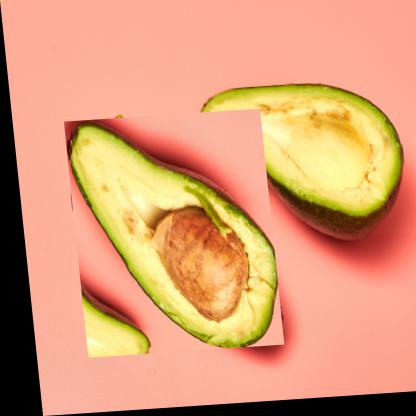avocado: (60, 111, 278, 359), (194, 83, 407, 250)
